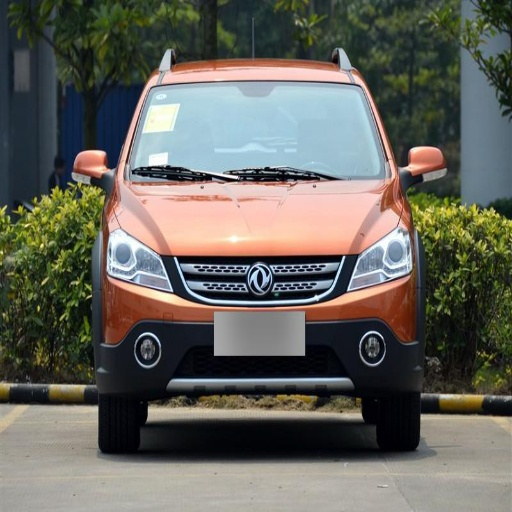front_bumper: (101, 255, 422, 388)
front_right_light: (104, 226, 171, 291)
hood: (114, 175, 400, 255)
left_mirror: (402, 145, 447, 190)
